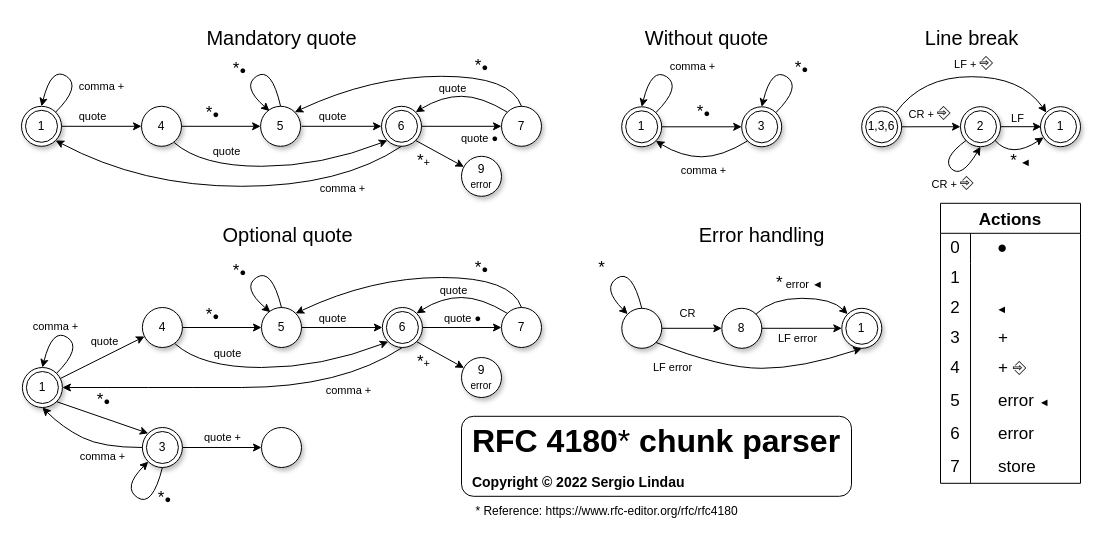
This 1104x543 diagram has some shape labels left out. Here are the shapes that lost their labels. From the top down, the centre of each, then its label:
At point 642,329: "9,10 error".
At point 282,448: "10 error".
